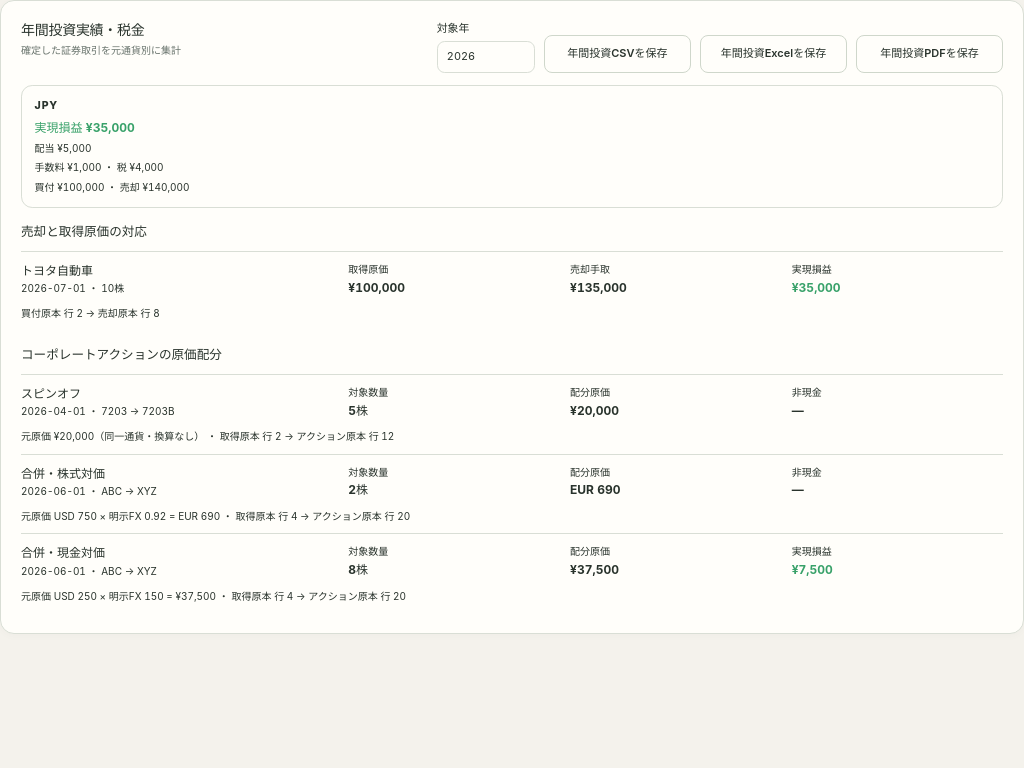
Scenario: InvestmentPeriodReport › reports canceled and failed saves without hiding the loaded report
The image size is (1024, 768).
Expected: the text "実現損益 ¥35,000" is shown, [35, 120, 135, 134]
Click the button "年間投資Excelを保存": (773, 54) [700, 35, 847, 73]
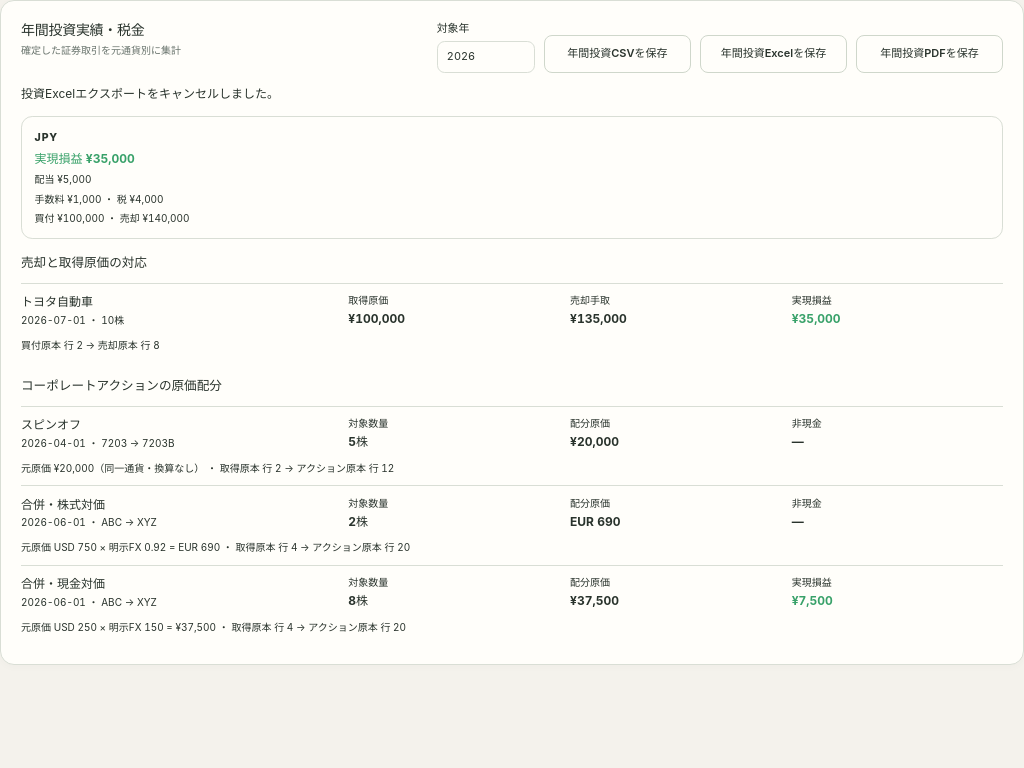
Expected: the text "実現損益 ¥35,000" is shown, [35, 151, 135, 166]
Now the text "投資Excelエクスポートをキャンセルしました。" is shown, box [21, 86, 279, 101]
Click the button "年間投資Excelを保存": (773, 54) [700, 35, 847, 73]
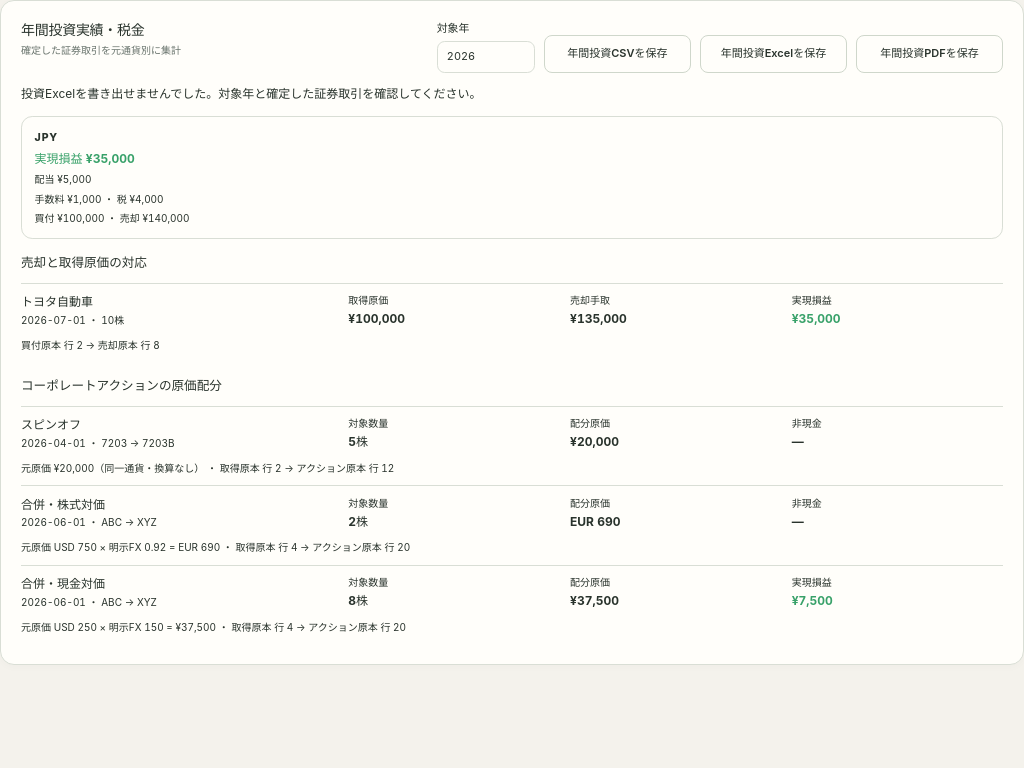
Expected: the text "実現損益 ¥35,000" is shown, [35, 151, 135, 166]
Now the text "投資Excelを書き出せませんでした。対象年と確定した証券取引を確認してください。" is shown, box [21, 86, 482, 101]
